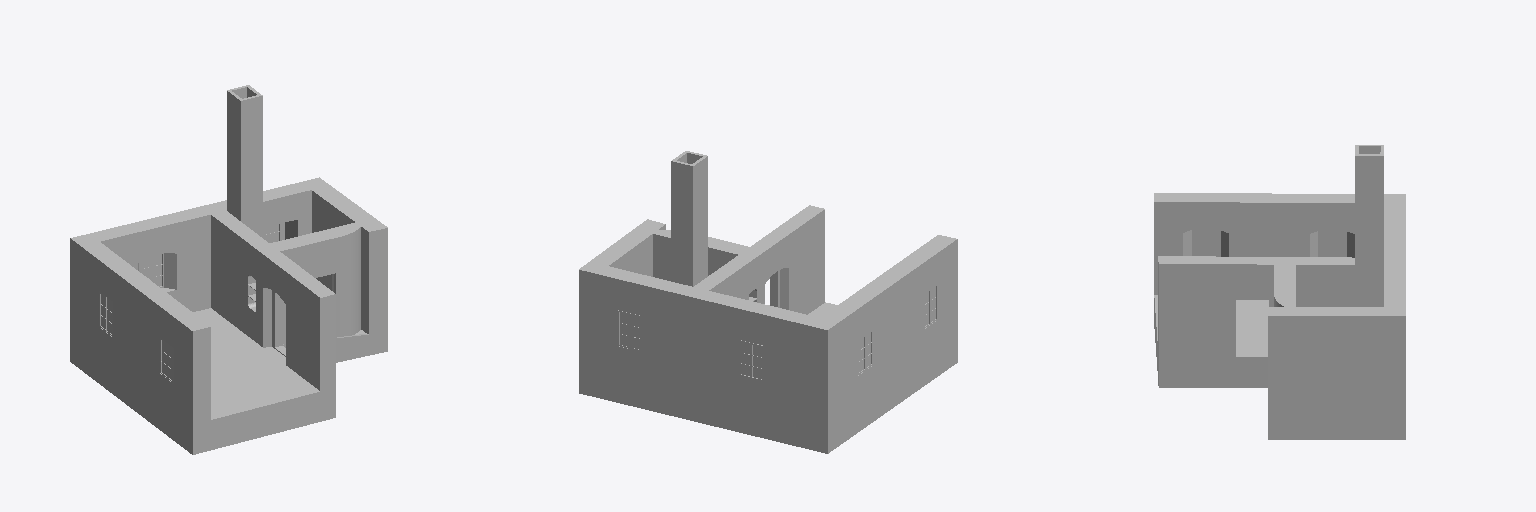
The model's file is vymenek.obj.
The picture shows the model from 3 angles: view 1: azimuth 30°, elevation 25°; view 2: azimuth 150°, elevation 25°; view 3: azimuth 270°, elevation 25°; orthographic projection.
Parts seen in each view (by area): view 1: Mesh11 Group1 Model, Mesh5 klenba_nad_oknem1 Group1 Model, Mesh37 Model, Mesh7 klenba_nad_oknem2 Group1 Model, Mesh9 klenba_nad_oknem3 Group1 Model, Mesh25 okno2 dvojokno1 Model; view 2: Mesh11 Group1 Model, Mesh5 klenba_nad_oknem1 Group1 Model, Mesh23 okno1 dvojokno1 Model, Mesh35 okno7 Model, Mesh7 klenba_nad_oknem2 Group1 Model, Mesh9 klenba_nad_oknem3 Group1 Model, Mesh31 okno5 dvojokno3 Model, Mesh27 okno3 dvojokno2 Model; view 3: Mesh11 Group1 Model, Mesh9 klenba_nad_oknem3 Group1 Model, Mesh7 klenba_nad_oknem2 Group1 Model, Mesh33 okno6 dvojokno3 Model, Mesh29 okno4 dvojokno2 Model.
Boxes of the visible parts, box(x1,y1,x2,y2) form: Mesh11 Group1 Model: box(70, 85, 387, 454); Mesh5 klenba_nad_oknem1 Group1 Model: box(135, 217, 176, 262); Mesh37 Model: box(282, 230, 387, 362); Mesh7 klenba_nad_oknem2 Group1 Model: box(99, 253, 134, 300); Mesh9 klenba_nad_oknem3 Group1 Model: box(160, 299, 196, 347); Mesh25 okno2 dvojokno1 Model: box(139, 253, 163, 287); Mesh11 Group1 Model: box(579, 151, 957, 453); Mesh5 klenba_nad_oknem1 Group1 Model: box(739, 299, 781, 345); Mesh23 okno1 dvojokno1 Model: box(739, 340, 763, 381); Mesh35 okno7 Model: box(618, 310, 642, 351); Mesh7 klenba_nad_oknem2 Group1 Model: box(836, 291, 872, 339); Mesh9 klenba_nad_oknem3 Group1 Model: box(902, 245, 937, 293); Mesh31 okno5 dvojokno3 Model: box(923, 284, 937, 329); Mesh27 okno3 dvojokno2 Model: box(858, 330, 872, 374); Mesh11 Group1 Model: box(1154, 145, 1405, 439); Mesh9 klenba_nad_oknem3 Group1 Model: box(1183, 193, 1228, 232); Mesh7 klenba_nad_oknem2 Group1 Model: box(1310, 194, 1354, 233); Mesh33 okno6 dvojokno3 Model: box(1192, 229, 1220, 256); Mesh29 okno4 dvojokno2 Model: box(1318, 230, 1346, 256).
Bounding box in the file's own units: 8.02 × 7.4 × 6.94.